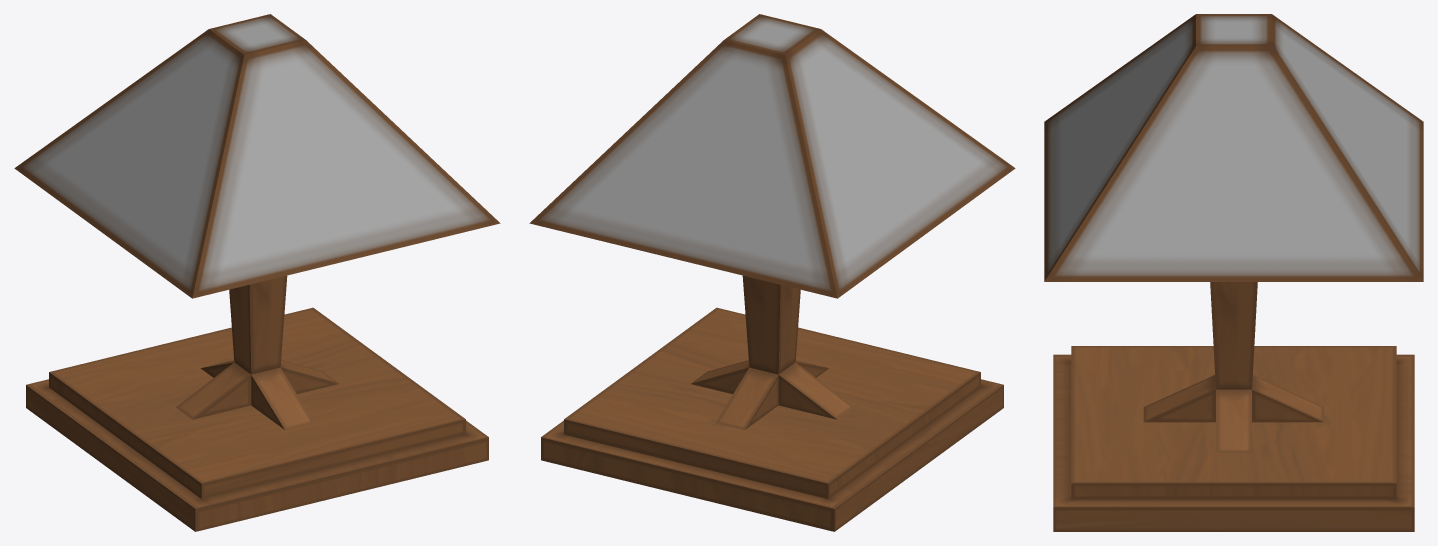
File: Lampu_Tidur.fbx
The picture shows the model from 3 angles, left to right: view 1: azimuth 30°, elevation 25°; view 2: azimuth 150°, elevation 25°; view 3: azimuth 270°, elevation 25°; orthographic projection. The views are drawn at different scales.
Parts seen in each view (by area): view 1: Lampu_Tidur.001, Lampu_Tidur; view 2: Lampu_Tidur.001, Lampu_Tidur; view 3: Lampu_Tidur.001, Lampu_Tidur.
Part boxes in pixels (bbox=[...]): Lampu_Tidur.001: bbox=[14, 14, 500, 298]; Lampu_Tidur: bbox=[26, 275, 488, 531]; Lampu_Tidur.001: bbox=[529, 14, 1015, 298]; Lampu_Tidur: bbox=[541, 275, 1003, 531]; Lampu_Tidur.001: bbox=[1044, 14, 1423, 281]; Lampu_Tidur: bbox=[1053, 282, 1414, 531].
Bounding box in the file's own units: 42 × 52 × 42.
Materials: 2 (2 with a texture image).
